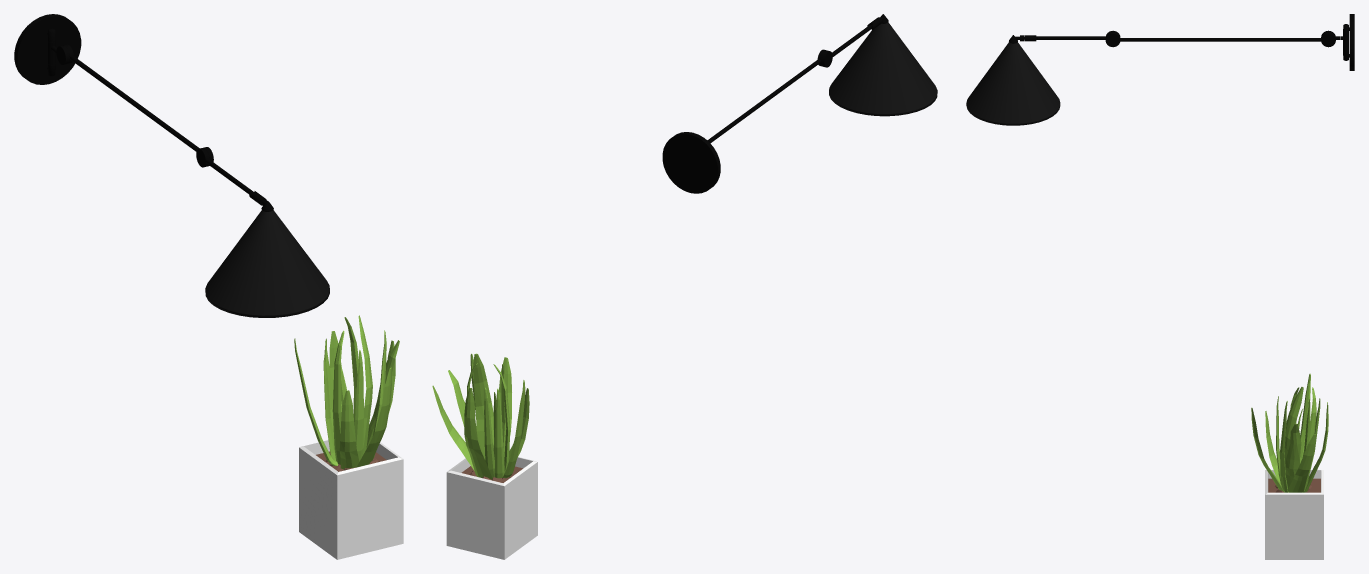
3 views of the same model, side by side, from view 1: azimuth 30°, elevation 25°; view 2: azimuth 150°, elevation 25°; view 3: azimuth 270°, elevation 25° (orthographic). The views are drawn at different scales.
Visible parts, largest first — view 1: group1885116500, Abajur, Support, group1507777984, LongArm, group1406455588, group2053840647, group560799048, group1377145234, group1647754183, group1781696643, ShortArm (+1 smaller); view 2: group1885116500, Abajur, Support, group560799048, group714662036, LongArm, group1781696643, group1308825903; view 3: Abajur, group1885116500, LongArm, group31856083, group24448074, group560799048.
Boxes of the visible parts, x1=… form: group1885116500: x1=299, y1=440, x2=403, y2=559; Abajur: x1=205, y1=210, x2=329, y2=317; Support: x1=14, y1=14, x2=81, y2=84; group1507777984: x1=339, y1=390, x2=359, y2=469; LongArm: x1=63, y1=44, x2=213, y2=166; group1406455588: x1=332, y1=330, x2=344, y2=464; group2053840647: x1=356, y1=367, x2=391, y2=467; group560799048: x1=358, y1=315, x2=372, y2=454; group1377145234: x1=354, y1=350, x2=363, y2=461; group1647754183: x1=294, y1=338, x2=338, y2=465; group1781696643: x1=323, y1=349, x2=335, y2=459; ShortArm: x1=196, y1=148, x2=253, y2=194; group1885116500: x1=446, y1=457, x2=537, y2=559; Abajur: x1=829, y1=22, x2=937, y2=116; Support: x1=662, y1=132, x2=720, y2=193; group560799048: x1=473, y1=353, x2=493, y2=459; group714662036: x1=464, y1=388, x2=492, y2=479; LongArm: x1=708, y1=49, x2=825, y2=142; group1781696643: x1=494, y1=388, x2=504, y2=478; group1308825903: x1=484, y1=387, x2=494, y2=477; Abajur: x1=966, y1=42, x2=1060, y2=125; group1885116500: x1=1265, y1=470, x2=1323, y2=559; LongArm: x1=1105, y1=32, x2=1335, y2=47; group31856083: x1=1287, y1=434, x2=1316, y2=492; group24448074: x1=1285, y1=423, x2=1302, y2=492; group560799048: x1=1284, y1=387, x2=1303, y2=474.
Size of the model in its own units: 6.51 by 9.25 by 7.56.
